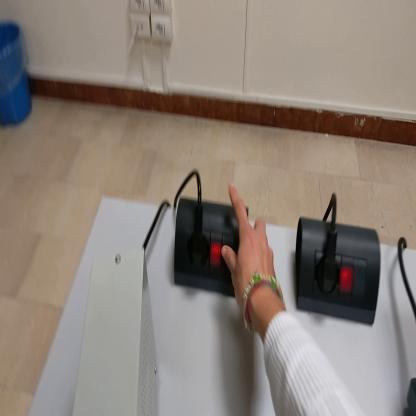hand: (221, 182, 281, 322)
oscilloscope: (406, 378, 416, 415)
power supply: (75, 250, 160, 415)
socket: (293, 215, 384, 328), (174, 196, 241, 302)
